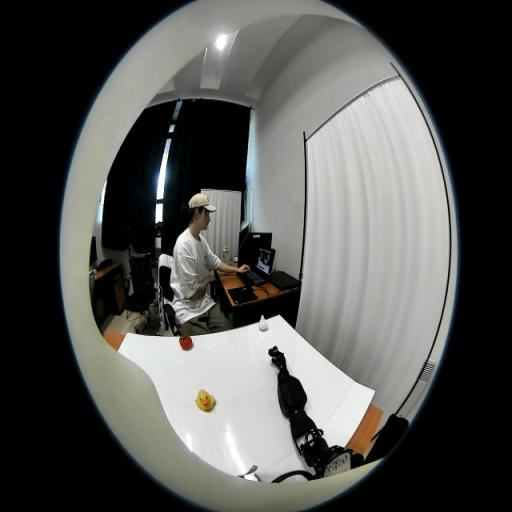Duck: (195, 389, 215, 412)
Onion: (258, 315, 268, 330)
RightHand: (279, 359, 286, 371)
Tomato: (179, 334, 192, 350)
